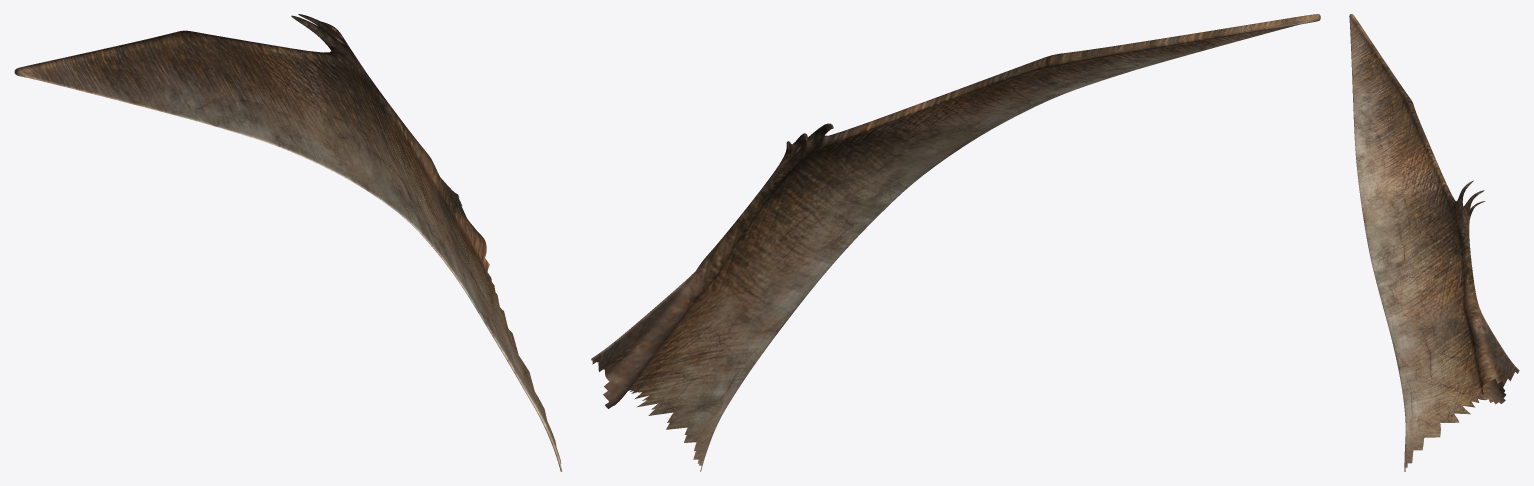
The model's file is QuetzalAla1.obj.
3 renders of one model, left to right at view 1: azimuth 30°, elevation 25°; view 2: azimuth 150°, elevation 25°; view 3: azimuth 270°, elevation 25°, orthographic. The views are drawn at different scales.
Visible parts, largest first — view 1: 13623_Quetzalcoatlus; view 2: 13623_Quetzalcoatlus; view 3: 13623_Quetzalcoatlus.
Boxes of the visible parts, x1=… form: 13623_Quetzalcoatlus: x1=14, y1=14, x2=562, y2=471; 13623_Quetzalcoatlus: x1=591, y1=14, x2=1320, y2=471; 13623_Quetzalcoatlus: x1=1349, y1=14, x2=1519, y2=471.
Size of the model in its own units: 172 by 159 by 80.23.
Materials: 1 (1 with a texture image).
